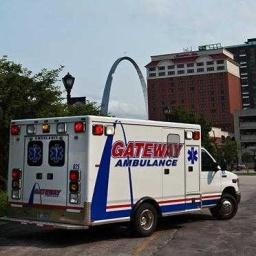Ambulance: (6, 116, 239, 235)
